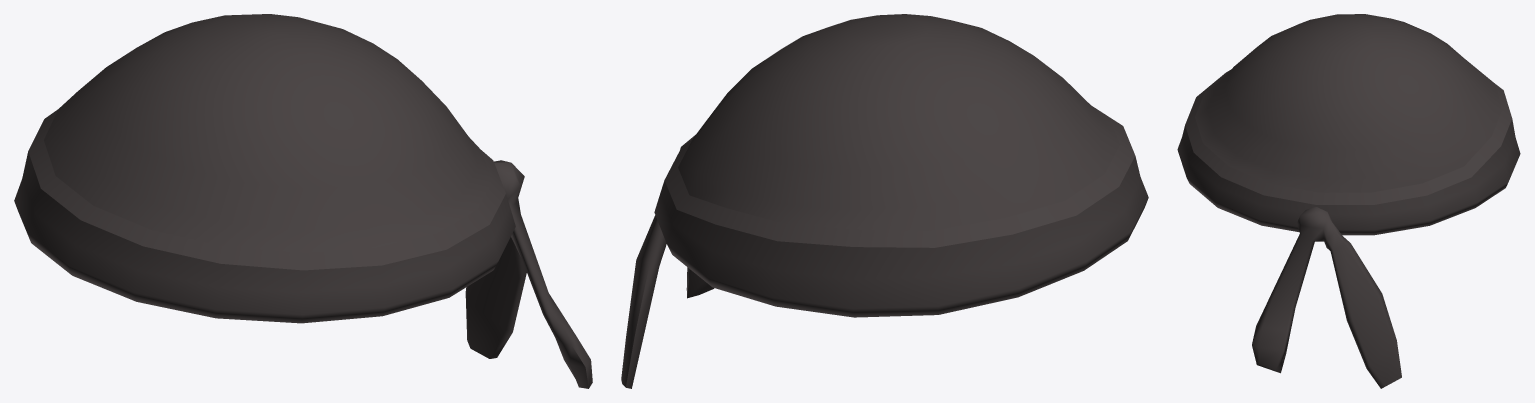
Rendered from Hat_115_03.fbx.
The picture shows the model from 3 angles, left to right: view 1: azimuth 30°, elevation 25°; view 2: azimuth 150°, elevation 25°; view 3: azimuth 270°, elevation 25°; orthographic projection. The views are drawn at different scales.
Parts seen in each view (by area): view 1: Hat_115_03; view 2: Hat_115_03; view 3: Hat_115_03.
Part boxes in pixels (x1,y1,x2,y2): Hat_115_03: (14, 14, 592, 388); Hat_115_03: (621, 14, 1148, 388); Hat_115_03: (1177, 14, 1520, 388).
Bounding box in the file's own units: 41.8 × 32.88 × 37.39.
